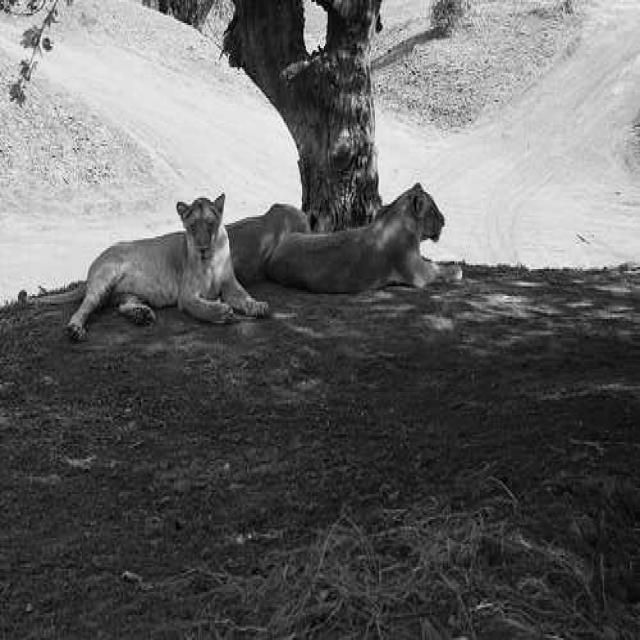Lion: (88, 138, 241, 322), (285, 172, 480, 277)
